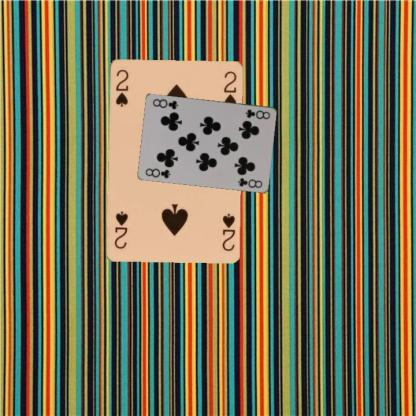2s: (113, 66, 130, 108), (219, 210, 236, 252)
8c: (142, 165, 172, 179), (243, 106, 272, 120)
